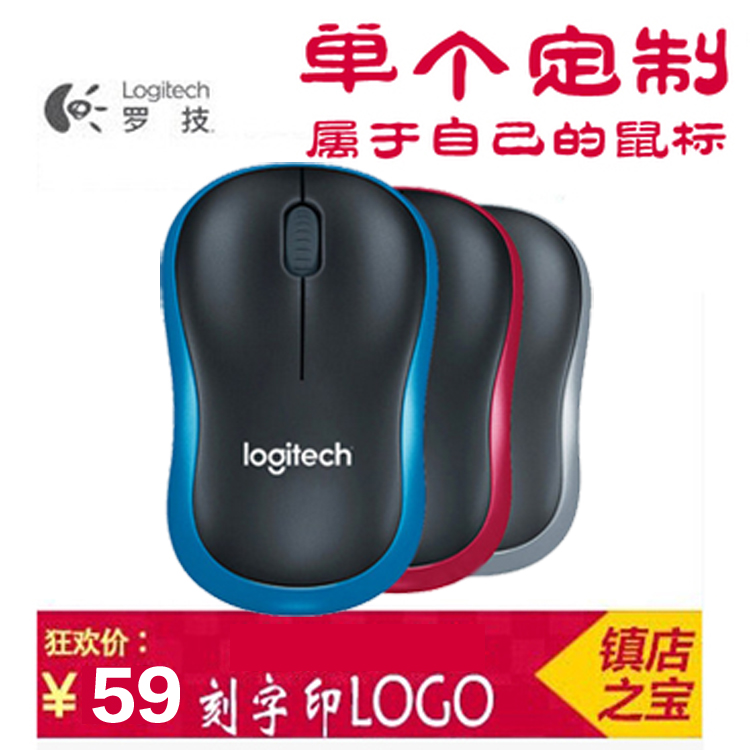logitech-mouse-m185: (156, 164, 436, 616)
